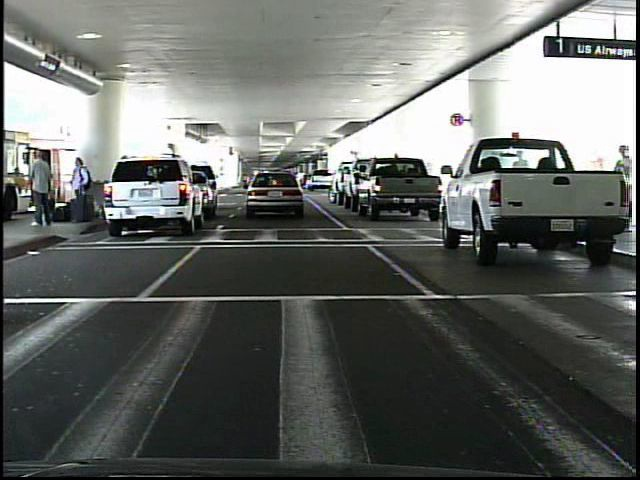person: (606, 141, 633, 233), (26, 149, 55, 228), (67, 156, 91, 226)
